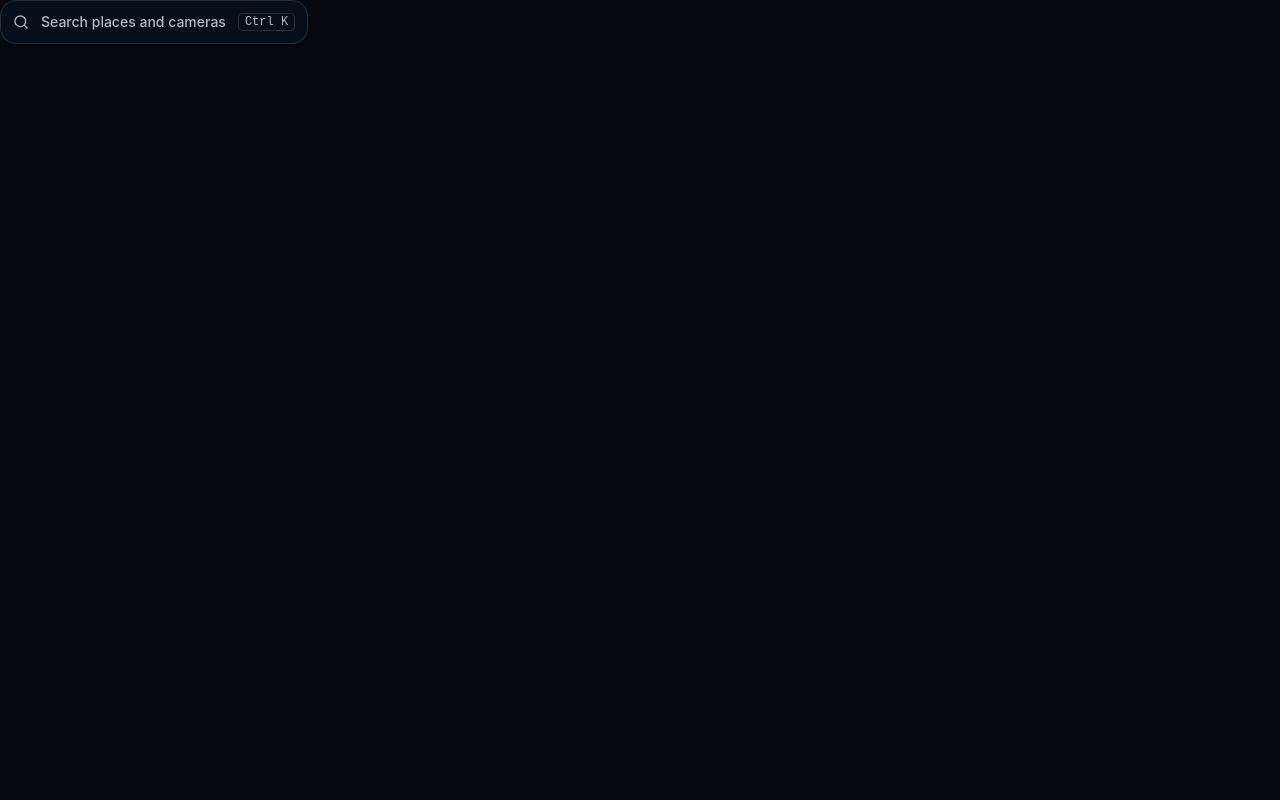
Test case: SearchDialog › says when nothing matches
This screenshot has width=1280, height=800.
Type keys "{Control>}k{/Control}"
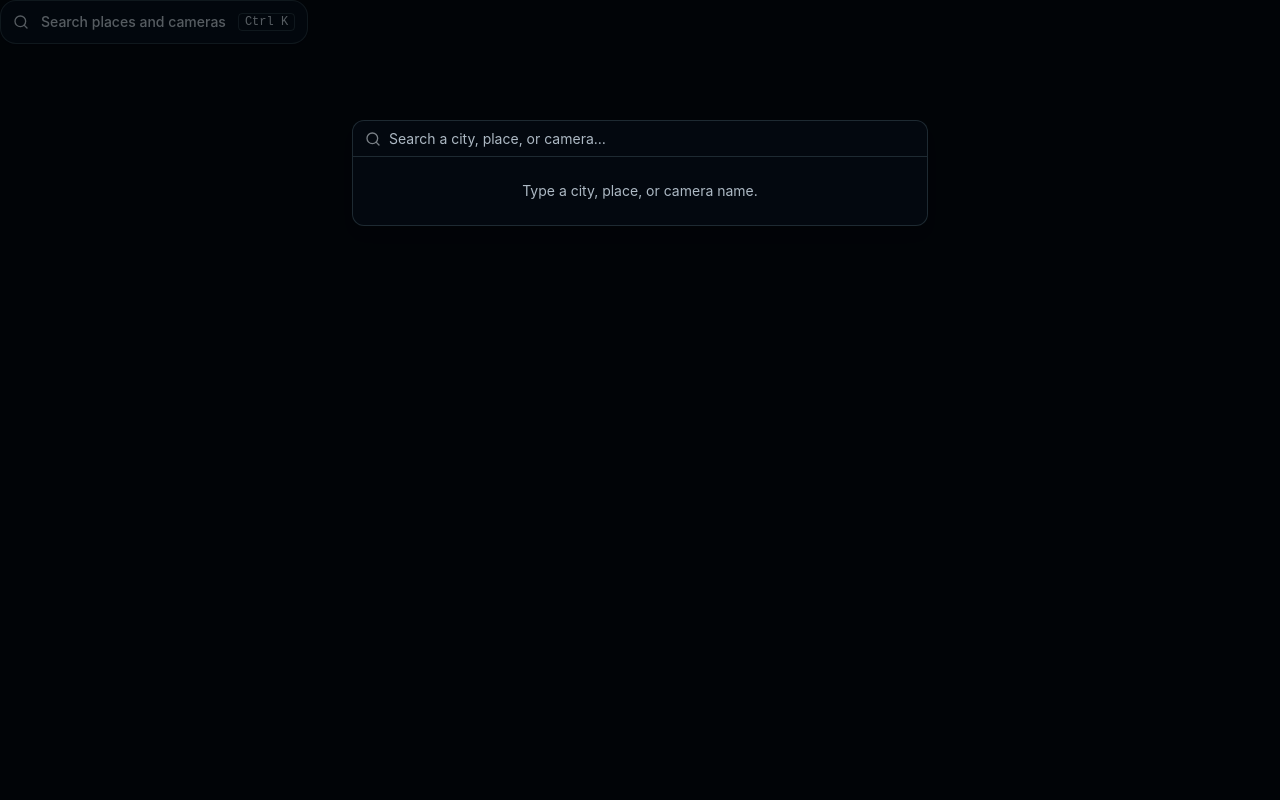
Type "zzz" into the dropdown at (652,138), box [389, 118, 915, 158]
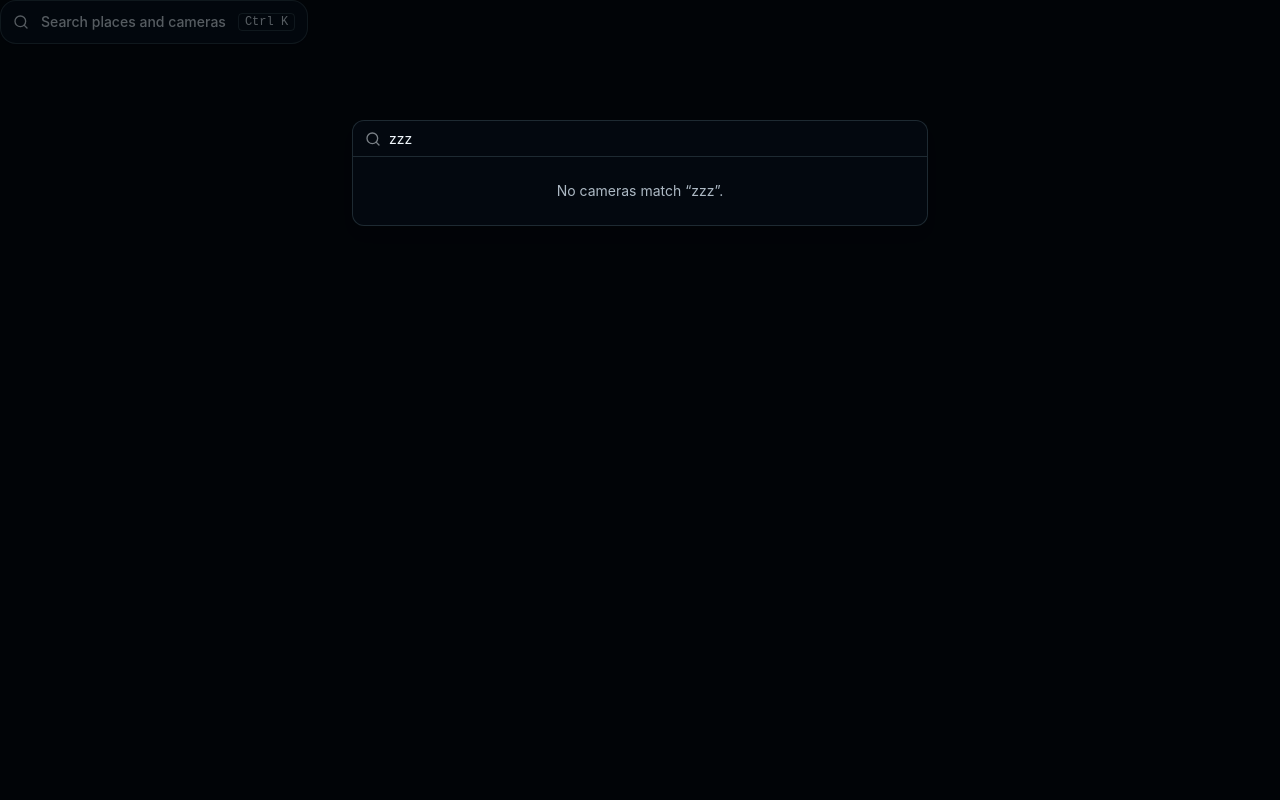
expect the text "No cameras match “zzz”." is shown: met, box [557, 182, 723, 199]
